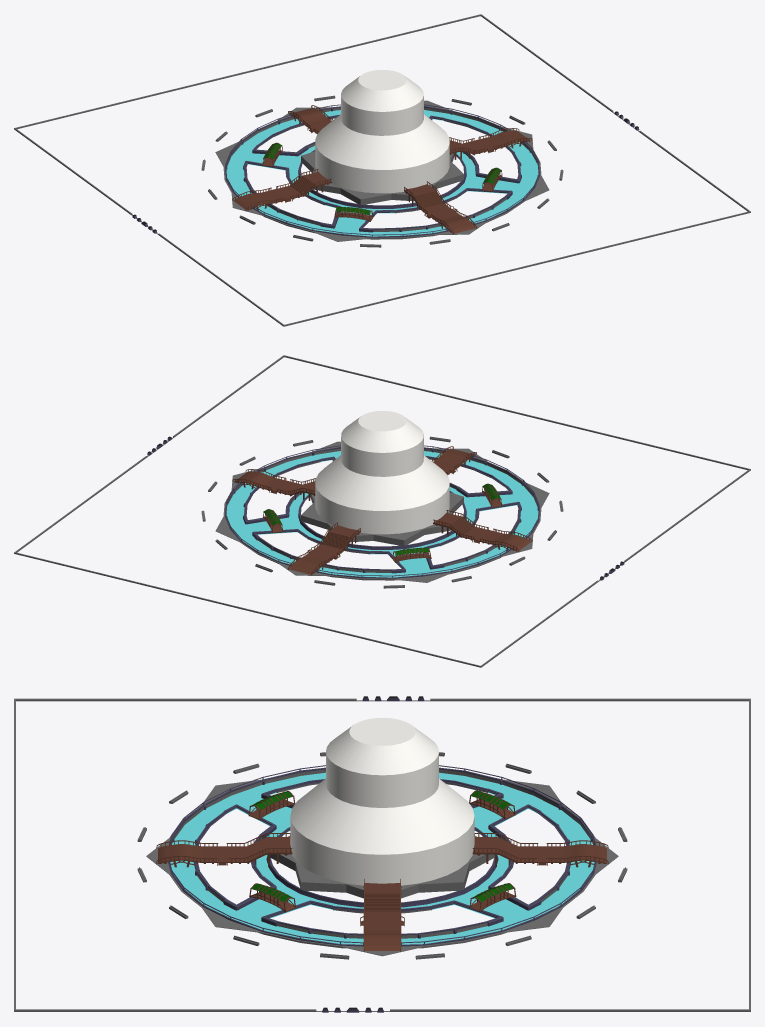
Rendered from Tori_Alue_Rajat.fbx.
3 renders of one model, top to bottom at view 1: azimuth 30°, elevation 25°; view 2: azimuth 150°, elevation 25°; view 3: azimuth 270°, elevation 25°, orthographic. The views are drawn at different scales.
Visible parts, largest first — view 1: Transport Hub, Maa_IlmanMaata, Maa_Vesi, Isot_Rappuset.001, Isot_Rappuset, Maa_Reunat_Isot, Maa_Reunat, Maa_Reunat.001, Maa_Reunat_Keskus; view 2: Transport Hub, Maa_IlmanMaata, Maa_Vesi, Isot_Rappuset.001, Isot_Rappuset, Maa_Reunat_Isot, Maa_Reunat, Maa_Reunat.001, Maa_Reunat_Keskus; view 3: Transport Hub, Maa_IlmanMaata, Maa_Vesi, Isot_Rappuset, Maa_Reunat_Isot, Maa_Reunat.001, Isot_Rappuset.001, Maa_Reunat, Maa_Reunat_Keskus, Silta_Katolla.002, Silta_Katolla.001, Silta_Katolla.003 (+1 smaller).
Part boxes in pixels (x1,y1,x2,y2): Transport Hub: [315, 70, 449, 193]; Maa_IlmanMaata: [14, 14, 750, 326]; Maa_Vesi: [226, 110, 538, 236]; Isot_Rappuset.001: [232, 128, 532, 210]; Isot_Rappuset: [288, 105, 476, 234]; Maa_Reunat_Isot: [225, 104, 539, 237]; Maa_Reunat: [252, 115, 512, 232]; Maa_Reunat.001: [243, 115, 521, 228]; Maa_Reunat_Keskus: [298, 150, 466, 208]; Transport Hub: [315, 411, 449, 534]; Maa_IlmanMaata: [14, 355, 750, 667]; Maa_Vesi: [226, 451, 538, 577]; Isot_Rappuset.001: [232, 469, 532, 551]; Isot_Rappuset: [288, 446, 476, 575]; Maa_Reunat_Isot: [225, 445, 539, 578]; Maa_Reunat: [252, 456, 512, 573]; Maa_Reunat.001: [243, 456, 521, 569]; Maa_Reunat_Keskus: [298, 491, 466, 549]; Transport Hub: [290, 717, 474, 885]; Maa_IlmanMaata: [14, 696, 750, 1012]; Maa_Vesi: [170, 772, 594, 944]; Isot_Rappuset: [156, 833, 608, 867]; Maa_Reunat_Isot: [168, 765, 596, 946]; Maa_Reunat.001: [261, 779, 503, 938]; Isot_Rappuset.001: [360, 879, 404, 951]; Maa_Reunat: [193, 804, 571, 910]; Maa_Reunat_Keskus: [266, 827, 498, 907]; Silta_Katolla.002: [469, 883, 516, 911]; Silta_Katolla.001: [249, 883, 295, 912]; Silta_Katolla.003: [469, 790, 515, 819].
Size of the model in its own units: 20110 by 3838 by 20000.
